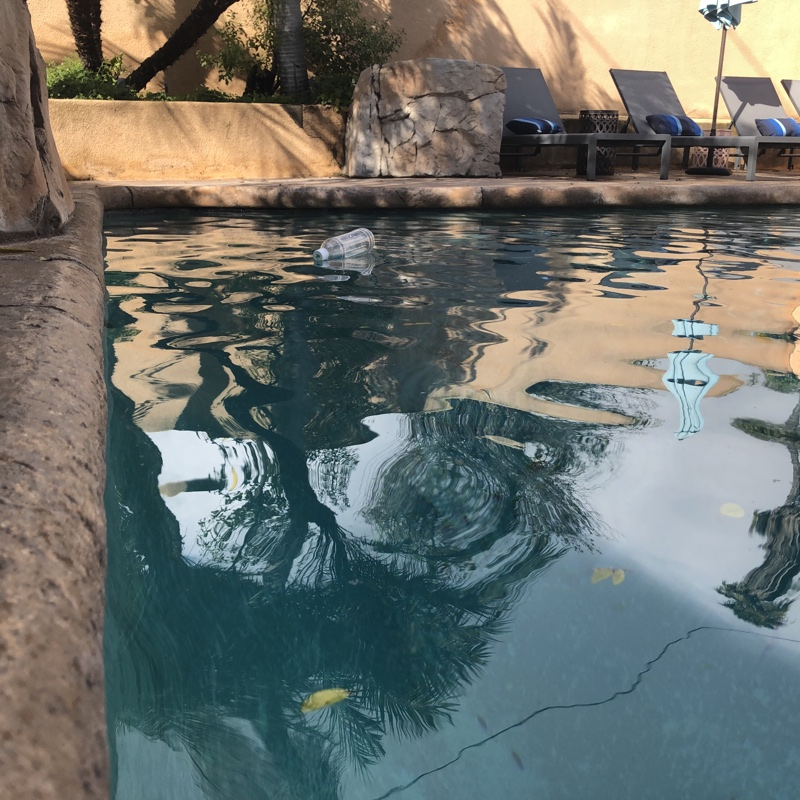Plastic Bottle: (310, 224, 377, 265)
